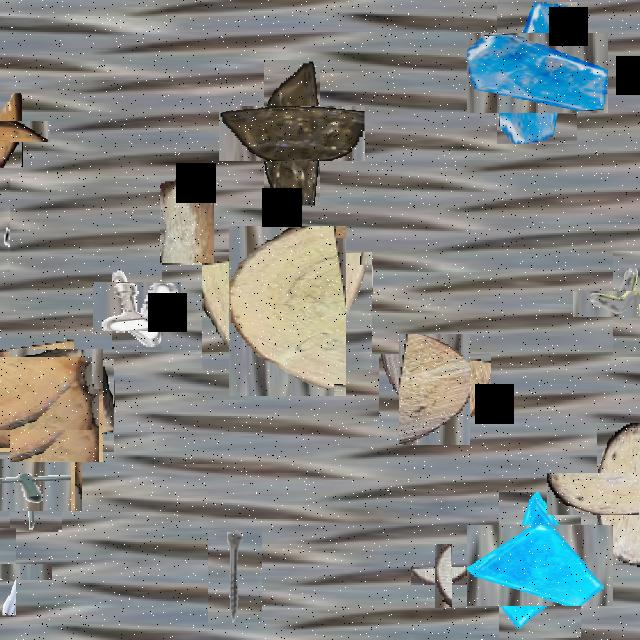glass: (483, 508, 597, 622), (482, 18, 592, 128)
metal: (0, 449, 72, 521), (208, 530, 262, 626), (102, 271, 172, 341), (593, 270, 640, 337), (0, 546, 34, 598), (0, 176, 10, 272)
plastic: (242, 83, 342, 184)
wood: (215, 239, 359, 383), (5, 354, 109, 457), (389, 344, 481, 435), (0, 347, 83, 439), (572, 447, 640, 540), (160, 174, 214, 263), (0, 106, 36, 156), (422, 556, 463, 596)
